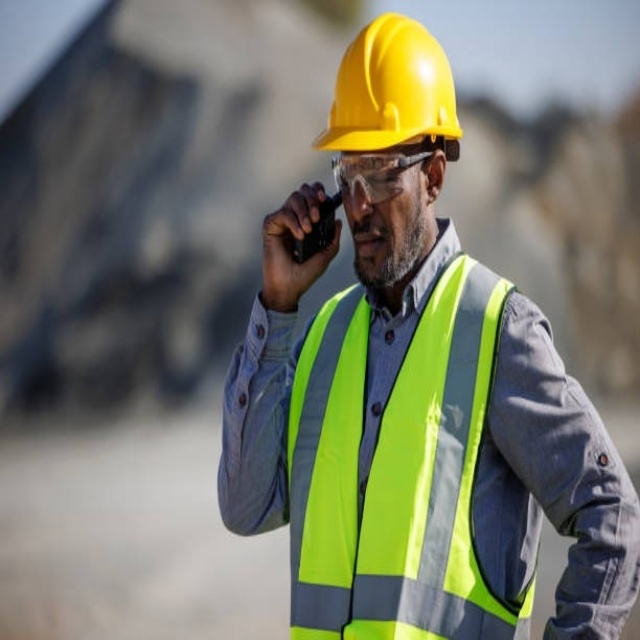Gafas: (330, 149, 438, 207)
Sin_guantes: (259, 187, 341, 310)
Sin_mascara: (346, 221, 394, 278)
